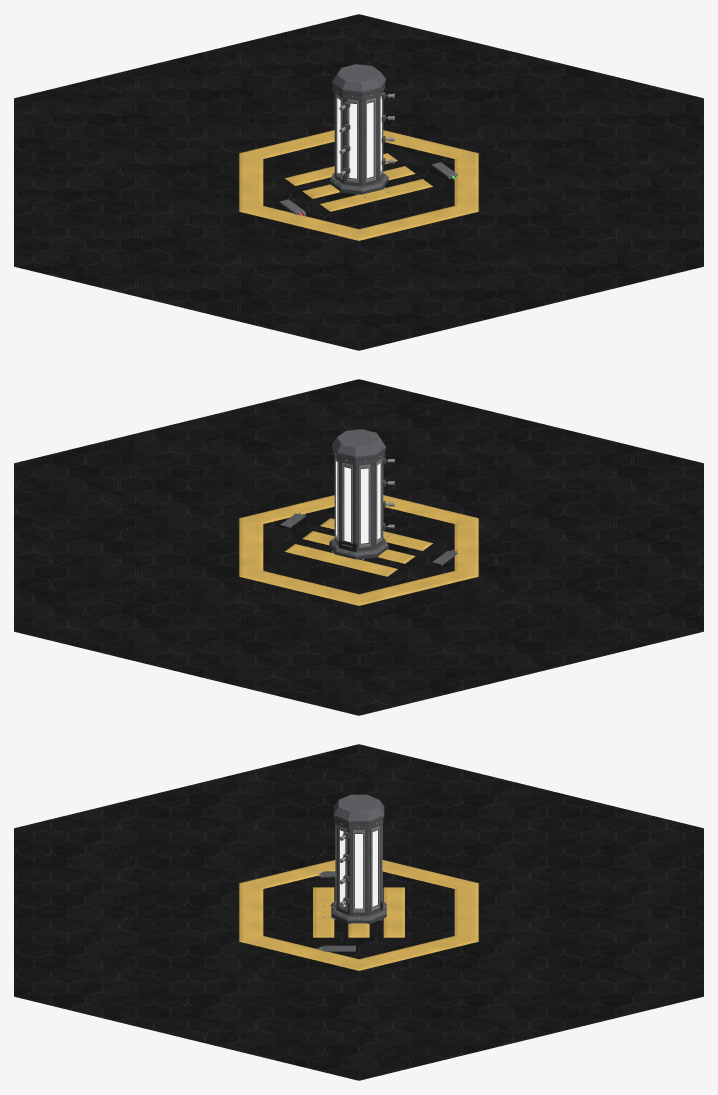
File: ring-kit.glb
3 renders of one model, top to bottom at view 1: azimuth 30°, elevation 25°; view 2: azimuth 150°, elevation 25°; view 3: azimuth 270°, elevation 25°, orthographic.
Parts seen in each view (by area): view 1: Canvas, Emblem, Post, PostLED_InL, PostLED_In; view 2: Canvas, Emblem, Post, PostLED_OutL; view 3: Canvas, Emblem, Post, PostLED_R.
Boxes of the visible parts, x1,y1,x2,y2 form: Canvas: (14,14,703,350); Emblem: (239,130,478,240); Post: (329,64,394,194); PostLED_InL: (349,103,356,178); PostLED_In: (367,102,373,177); Canvas: (14,379,703,715); Emblem: (239,495,478,605); Post: (329,429,394,559); PostLED_OutL: (361,468,368,543); Canvas: (14,744,703,1080); Emblem: (239,860,478,970); Post: (331,794,386,923); PostLED_R: (355,834,362,908).
Bounding box in the file's own units: 12.1 × 2.89 × 10.48.
12 materials, 7 textured.
